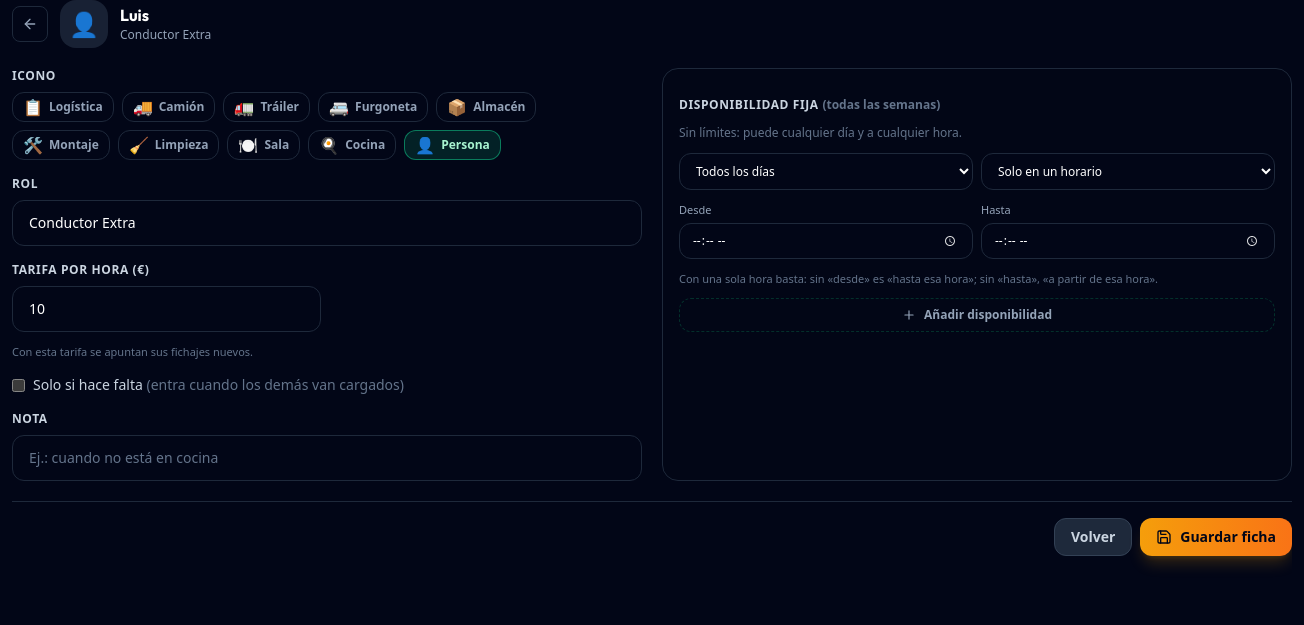
Test: FichaTrabajador › "a partir de las 15:00" todas las semanas: se añade y se guarda en su ficha
The width and height of the screenshot is (1304, 625).
Type "15:00" into the time field labelled "Desde". click: (826, 241)
box: [679,222,973,259]
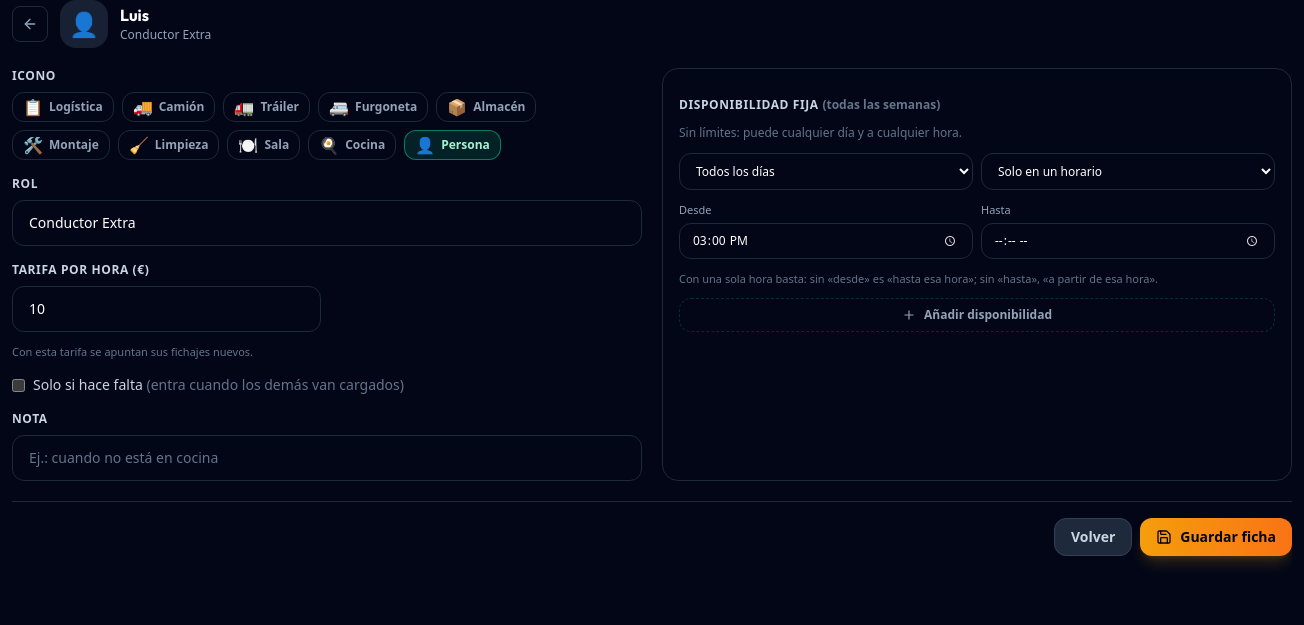
Click the button "Añadir disponibilidad". click: (977, 315)
box: [679,298,1275,332]
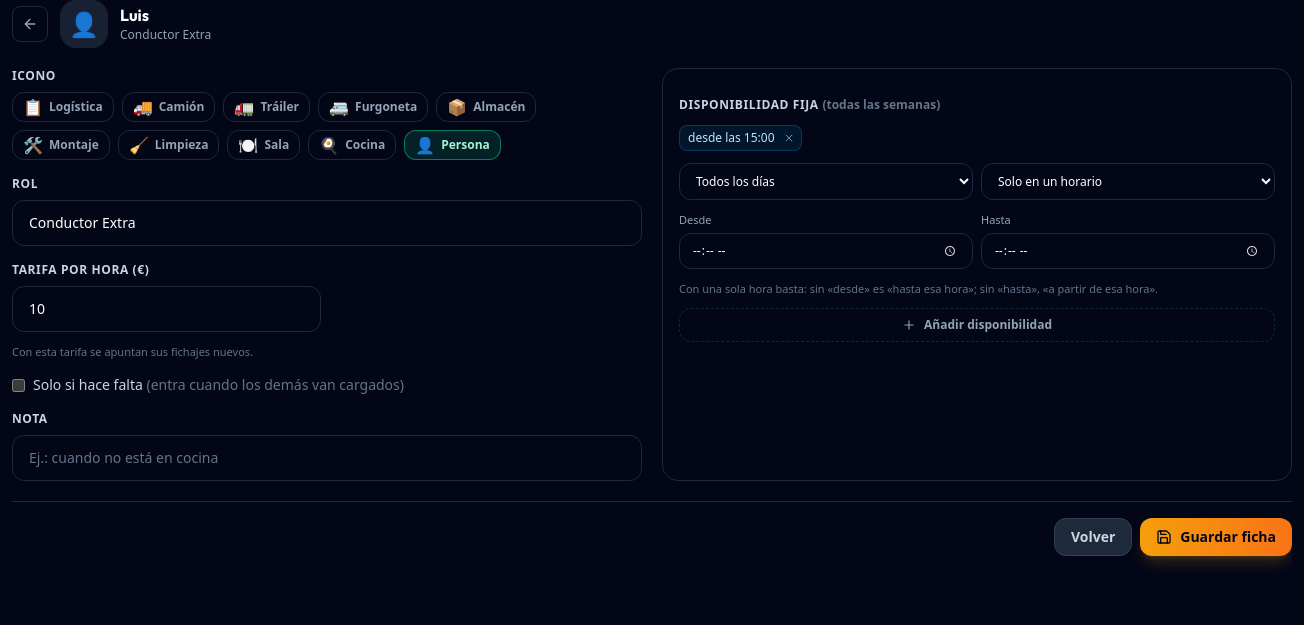
Result: the list item "desde las 15:00" is shown at [679,125,802,151]
Click the button "Guardar ficha". click: (1216, 537)
box: [1140,518,1292,556]
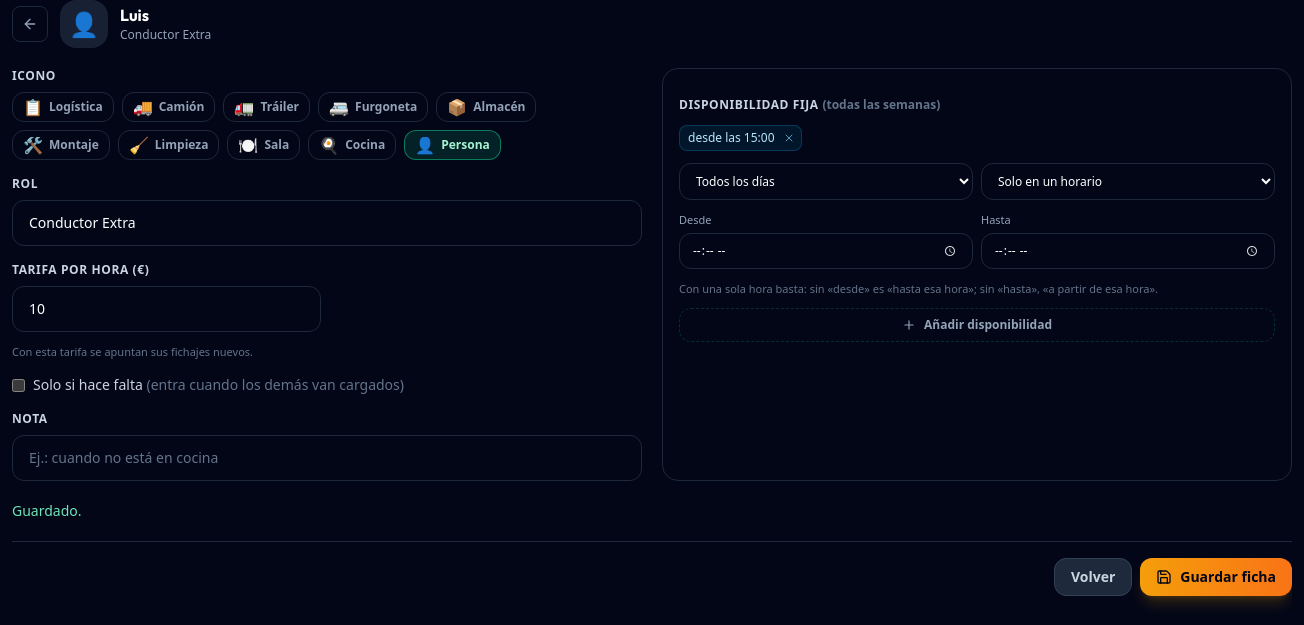
Result: the message reads "Guardado." at [12,501,82,520]
